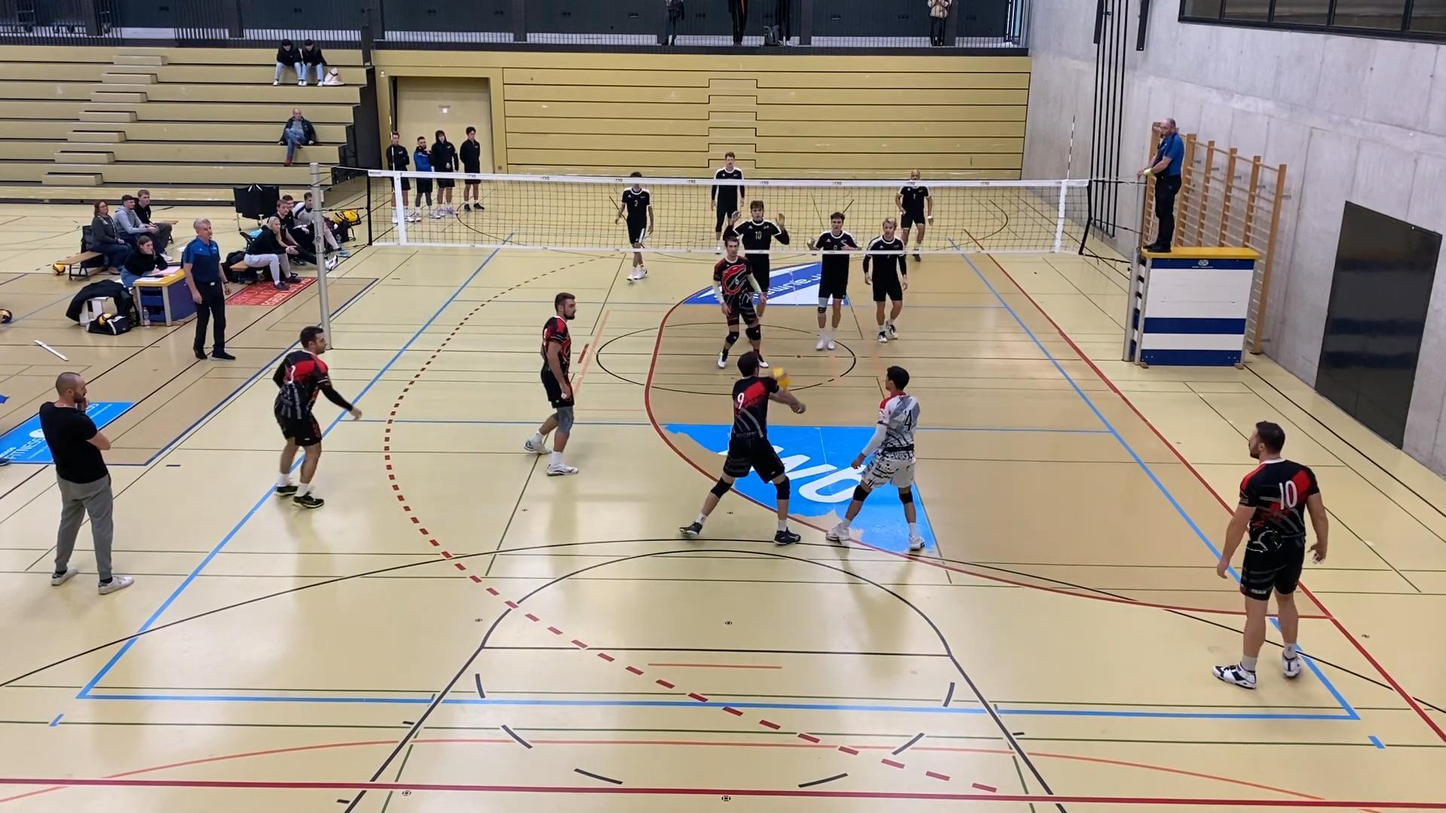Player: (1214, 422, 1328, 688), (825, 366, 924, 550), (273, 326, 362, 508), (524, 292, 578, 476), (725, 200, 789, 315), (714, 236, 768, 368), (809, 213, 859, 349), (862, 218, 908, 342), (615, 181, 652, 282), (895, 169, 932, 260), (711, 184, 743, 251)
Receive: (678, 352, 807, 549)
ball: (766, 360, 793, 392)
